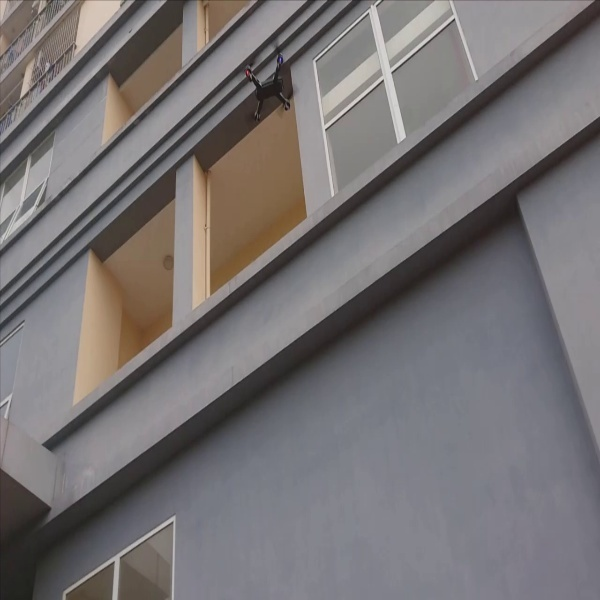drone: (229, 40, 305, 125)
